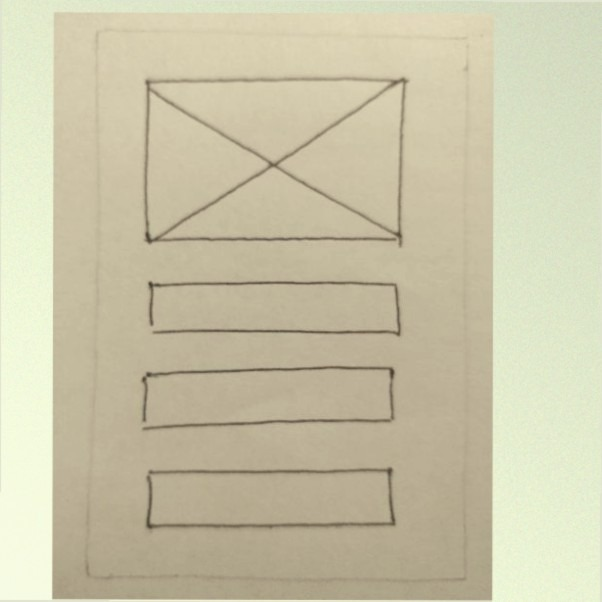image: (135, 68, 411, 257)
text_input: (131, 455, 409, 537), (136, 358, 399, 436), (138, 277, 405, 340)
